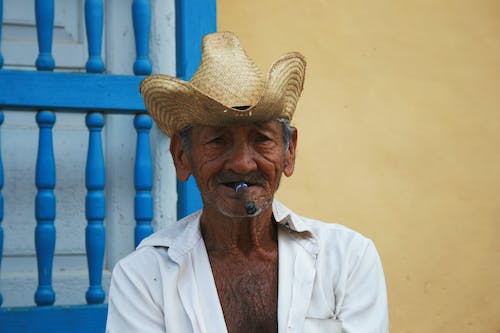cigarette: (233, 180, 260, 218)
